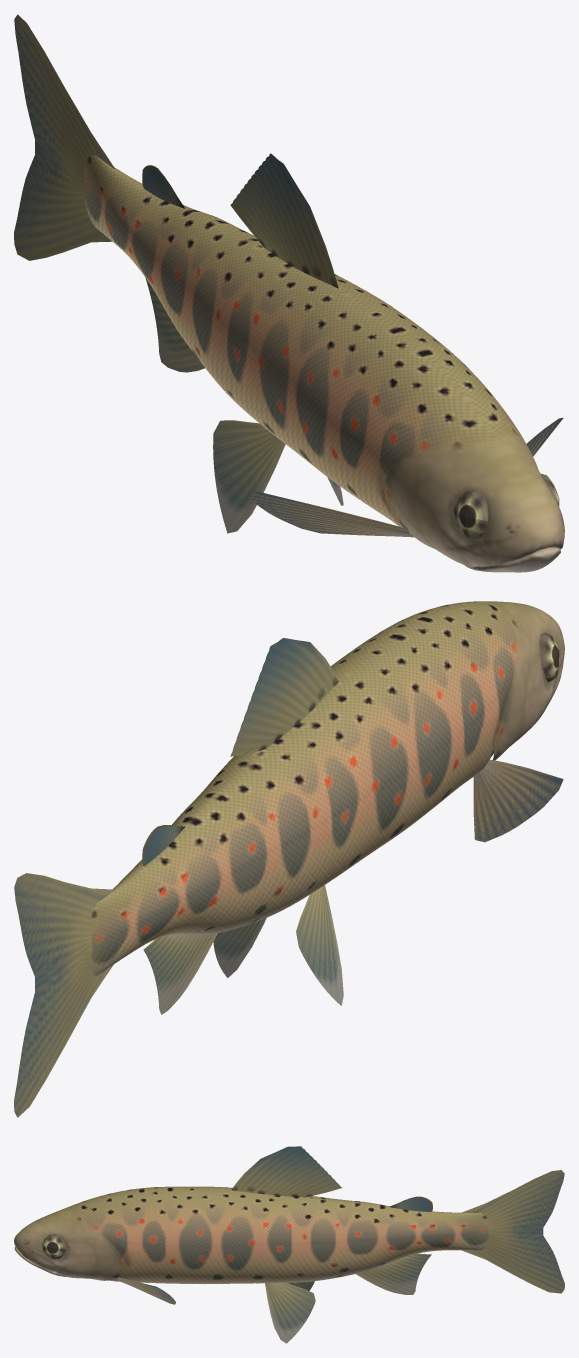
The model's file is fish.FBX.
3 renders of one model, top to bottom at view 1: azimuth 30°, elevation 25°; view 2: azimuth 150°, elevation 25°; view 3: azimuth 270°, elevation 25°, orthographic. The views are drawn at different scales.
Visible parts, largest first — view 1: BODY01L, TAIL01L, BACK01L, WAIST01R, BUST01R, HIP01L, EYE01R, BACK02L; view 2: BODY01L, TAIL01L, BACK01L, BUST01R, WAIST01R, HIP01L, WAIST01L, BACK02L, EYE01R; view 3: BODY01L, TAIL01L, BACK01L, WAIST01L, HIP01L, BUST01L, EYE01L, BACK02L.
Part boxes in pixels (x1,y1,x2,y2): BODY01L: (84,155,564,572); TAIL01L: (14,14,114,260); BACK01L: (230,153,338,288); WAIST01R: (213,420,285,533); BUST01R: (251,492,414,537); HIP01L: (145,278,204,372); EYE01R: (453,490,488,539); BACK02L: (142,165,184,208); BODY01L: (90,601,564,975); TAIL01L: (14,873,115,1117); BACK01L: (230,638,338,756); BUST01R: (473,759,563,842); WAIST01R: (296,885,343,1005); HIP01L: (143,933,217,1014); WAIST01L: (213,918,266,977); BACK02L: (142,825,184,866); EYE01R: (539,632,559,682); BODY01L: (14,1186,489,1284); TAIL01L: (461,1170,564,1293); BACK01L: (231,1146,341,1197); WAIST01L: (265,1282,315,1343); HIP01L: (356,1253,431,1294); BUST01L: (117,1277,175,1304); EYE01L: (42,1234,65,1259); BACK02L: (389,1196,432,1211).
Bounding box in the file's own units: 3.74 × 4.14 × 11.27.
Materials: 1 (1 with a texture image).
